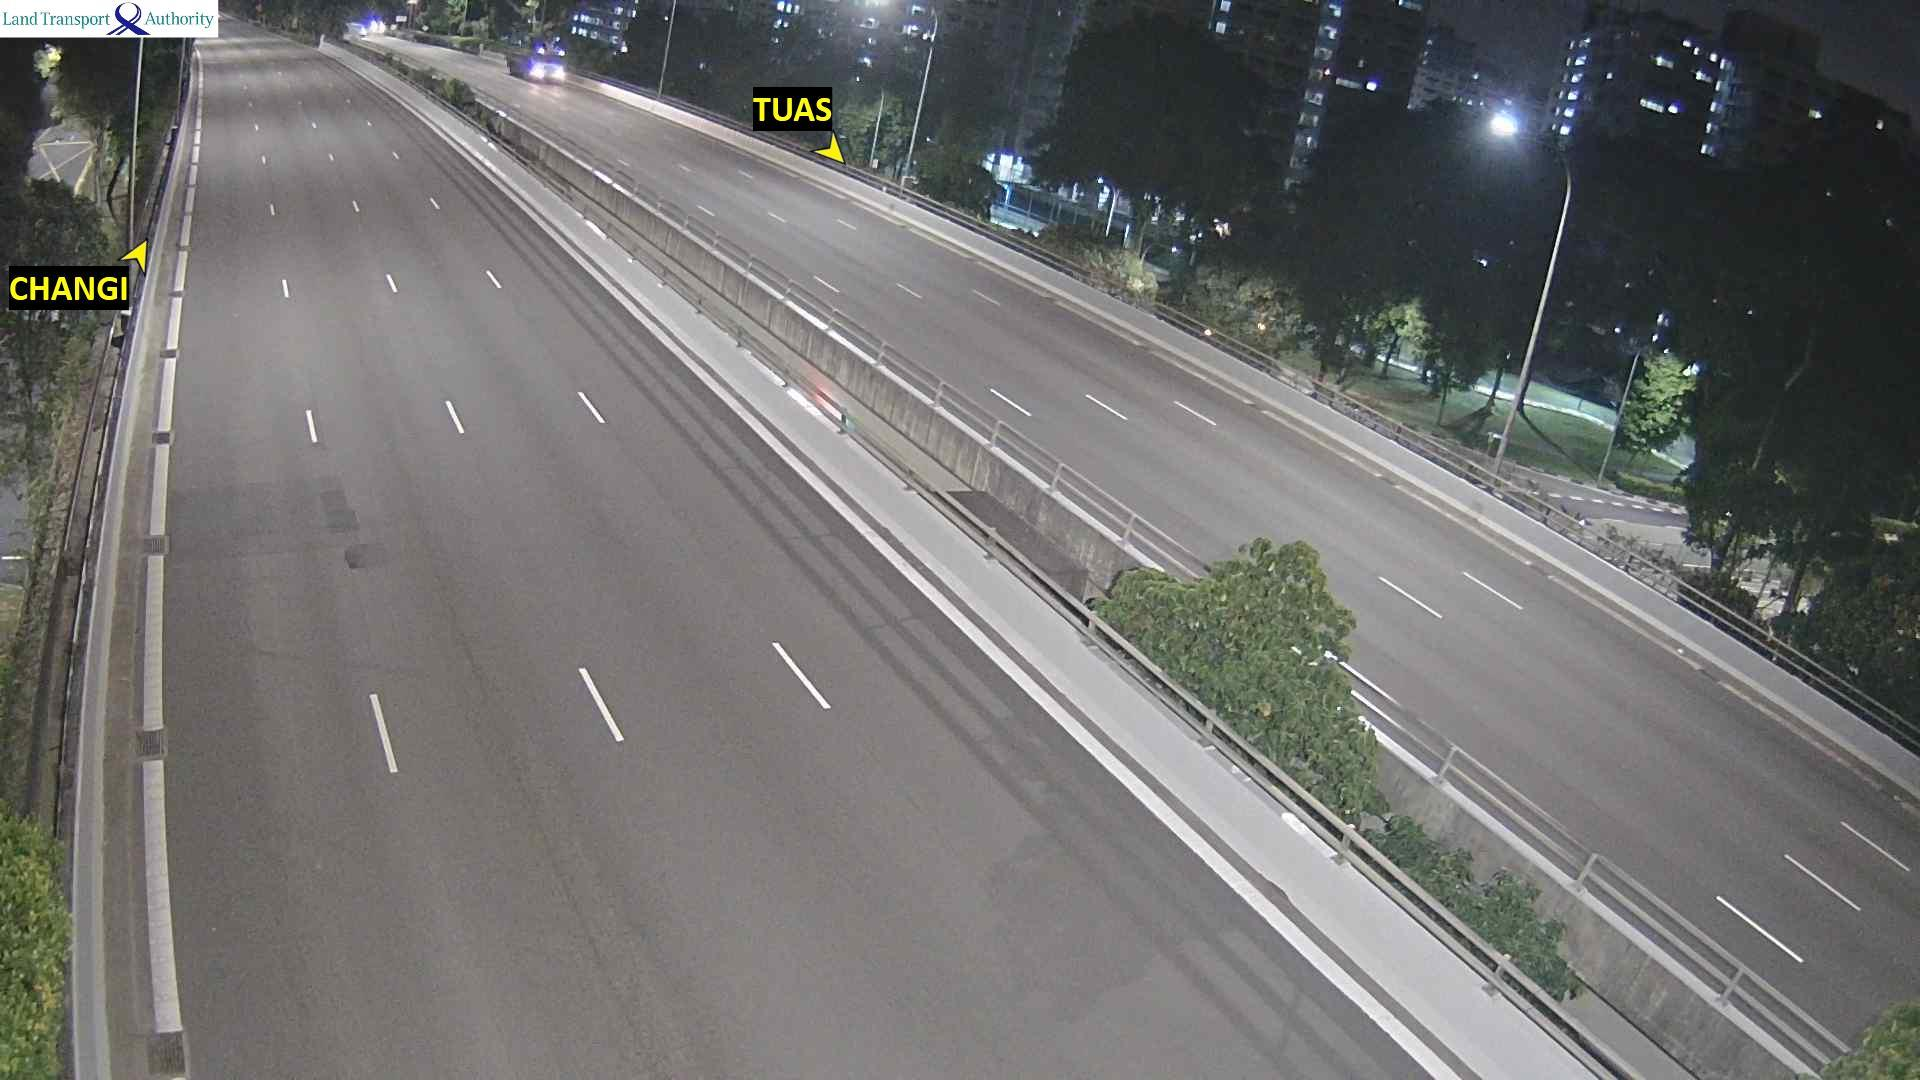incoming: (525, 42, 572, 88)
